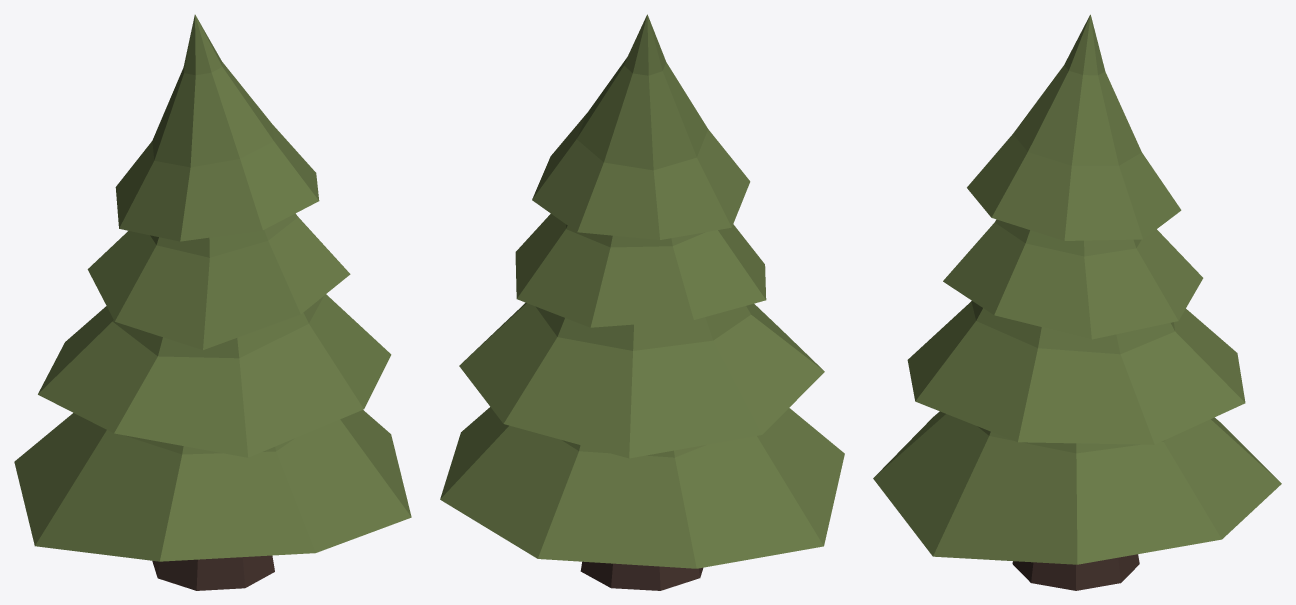
The model's file is christmas_tree_02.fbx.
The picture shows the model from 3 angles, left to right: view 1: azimuth 30°, elevation 25°; view 2: azimuth 150°, elevation 25°; view 3: azimuth 270°, elevation 25°; orthographic projection. The views are drawn at different scales.
Parts seen in each view (by area): view 1: FirTree; view 2: FirTree; view 3: FirTree.
Part boxes in pixels (x1,y1,x2,y2): FirTree: [14, 14, 411, 590]; FirTree: [440, 14, 844, 590]; FirTree: [873, 14, 1281, 590].
Size of the model in its own units: 608 by 894 by 608.
